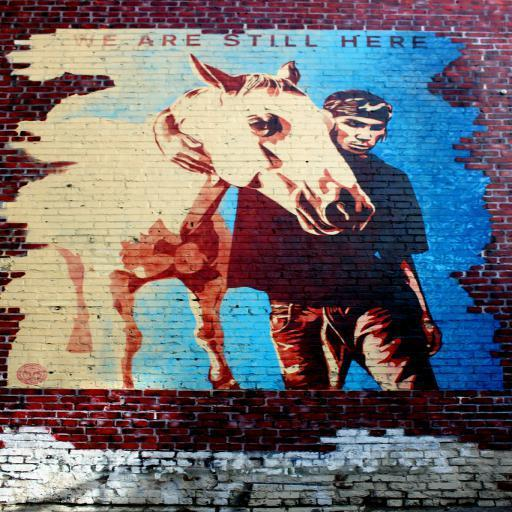horse: (54, 51, 378, 387)
